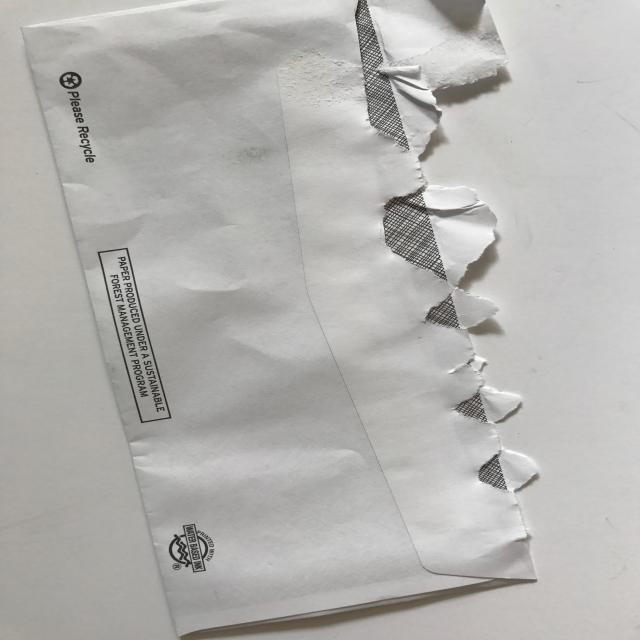Paper: (24, 0, 543, 640)
